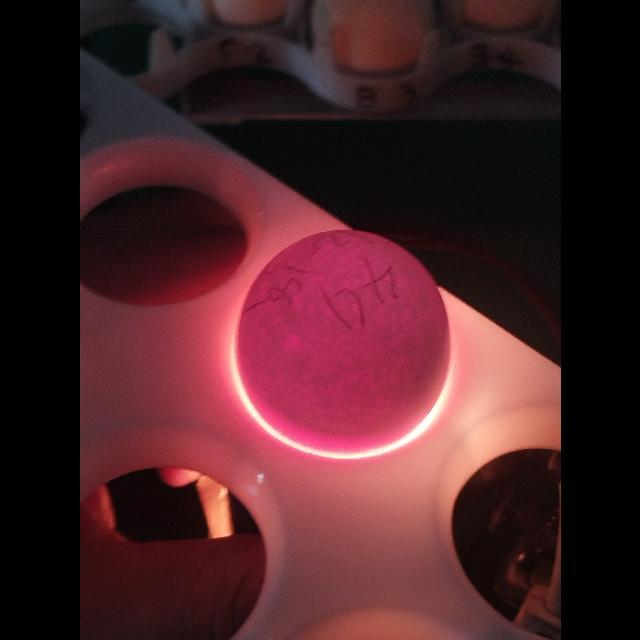Infertile: (232, 228, 453, 457)
